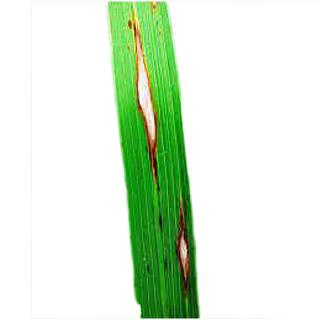Blast: (117, 13, 167, 193), (172, 190, 194, 293)
